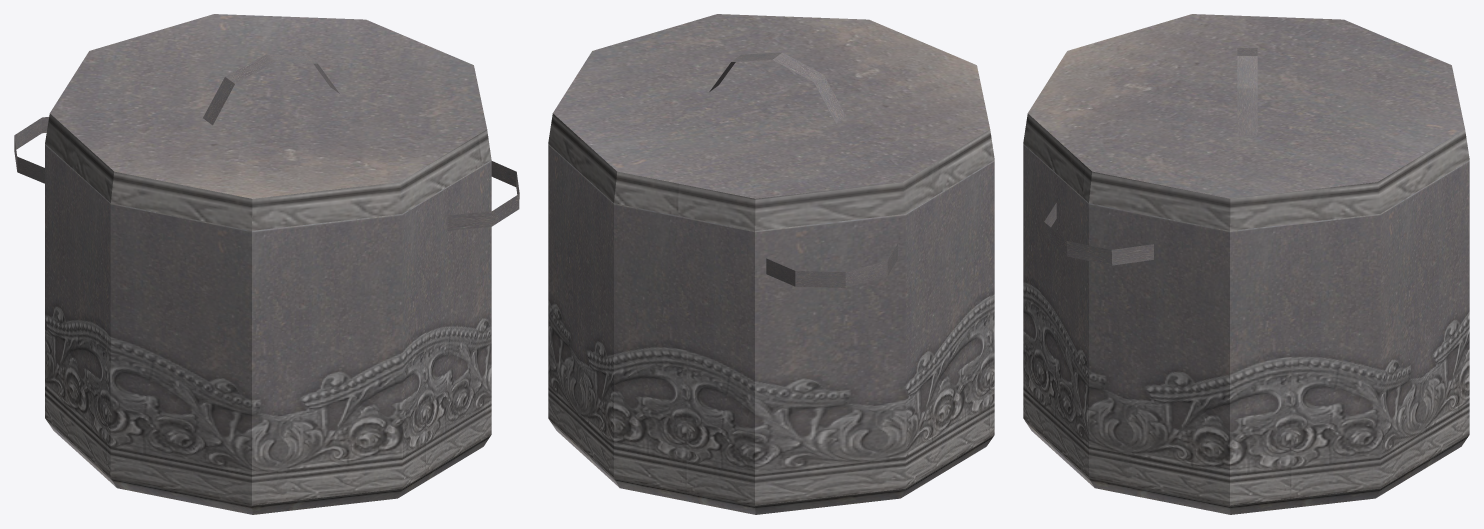
Rendered from M_Home_Garden_Kitchen_Pan.fbx.
3 views of the same model, side by side, from view 1: azimuth 30°, elevation 25°; view 2: azimuth 150°, elevation 25°; view 3: azimuth 270°, elevation 25° (orthographic).
Parts seen in each view (by area): view 1: M_Home_Garden_Kitchen_Pan; view 2: M_Home_Garden_Kitchen_Pan; view 3: M_Home_Garden_Kitchen_Pan.
Part boxes in pixels (bbox=[...]): M_Home_Garden_Kitchen_Pan: bbox=[14, 14, 519, 514]; M_Home_Garden_Kitchen_Pan: bbox=[548, 14, 994, 514]; M_Home_Garden_Kitchen_Pan: bbox=[1023, 14, 1469, 514].
Size of the model in its own units: 34.41 by 31.12 by 34.41.
